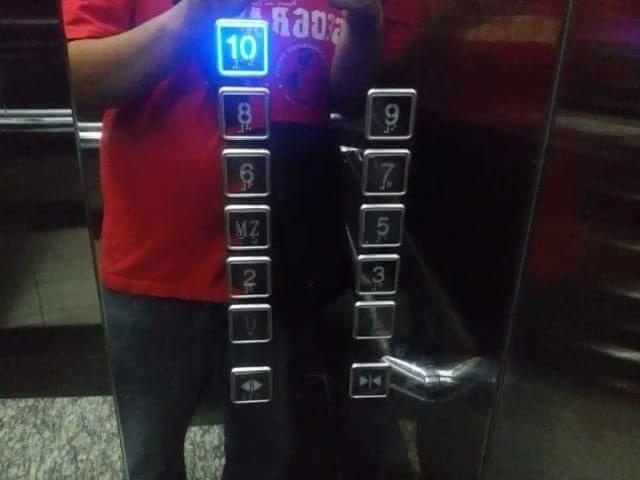1: (352, 298, 398, 342)
10: (212, 16, 272, 79)
2: (223, 254, 275, 302)
3: (353, 250, 400, 298)
5: (355, 201, 407, 248)
6: (218, 146, 273, 200)
7: (359, 146, 411, 200)
8: (217, 84, 272, 143)
9: (364, 86, 417, 143)
MZ: (220, 204, 275, 254)
blur: (224, 302, 274, 347)
close: (348, 360, 393, 400)
open: (228, 364, 275, 407)
